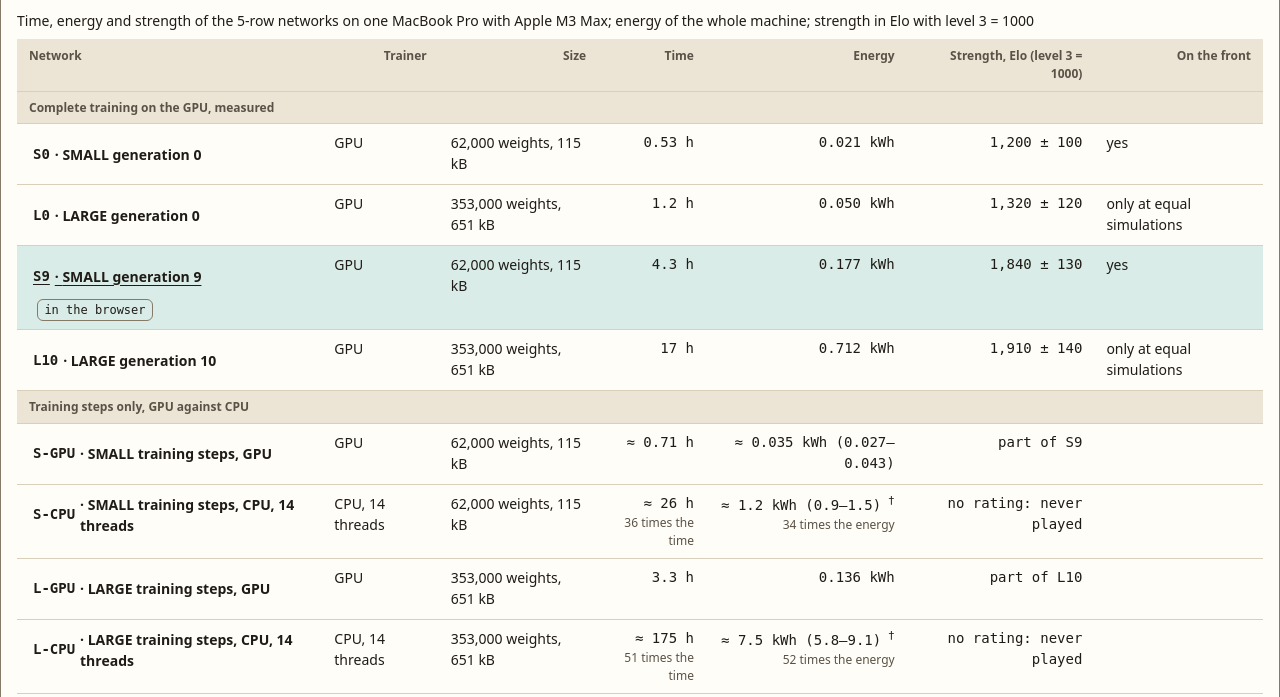
selecting a row › the detail panel has eight variants in one cell and only the selected one is not hidden
(page scrolled)
Click the button "L10 · LARGE generation 10": (125, 360) [29, 338, 220, 382]
(page scrolled)
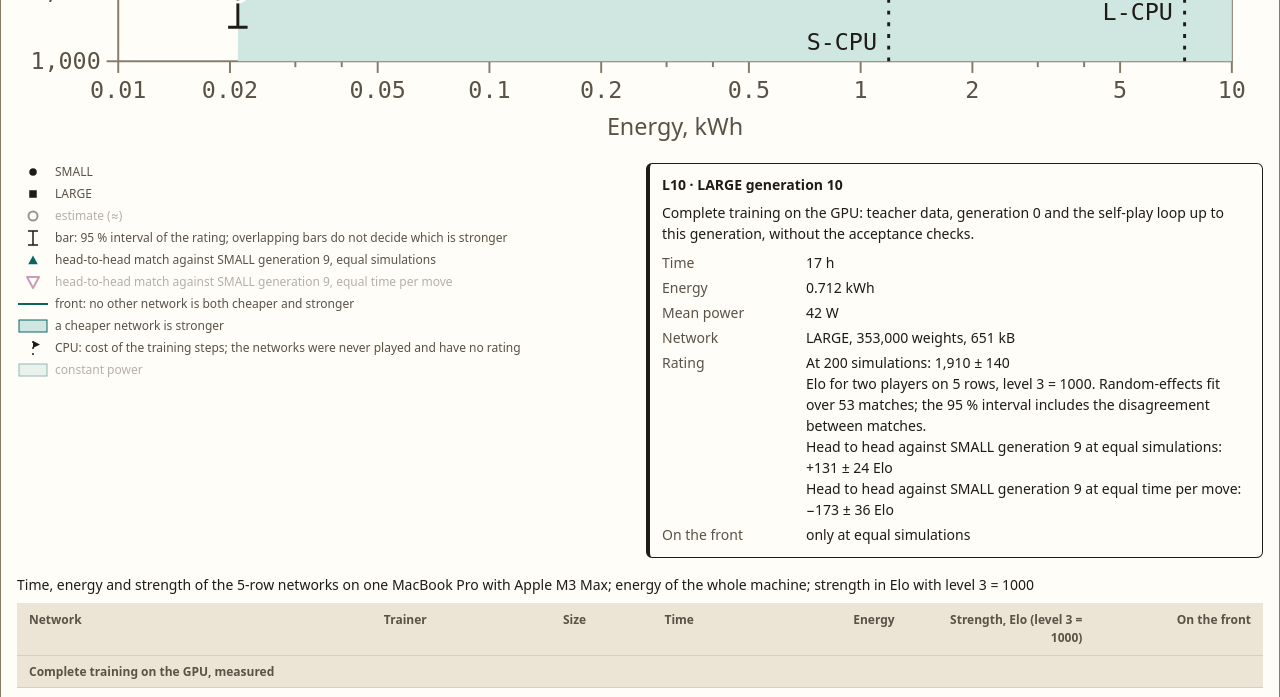
expect the element with class "ml-fig-energy__variant" shows "+131 ± 24 Elo": met, box [806, 437, 1222, 477]
expect the element with class "ml-fig-energy__variant" shows "−173 ± 36 Elo": met, box [806, 479, 1241, 519]
